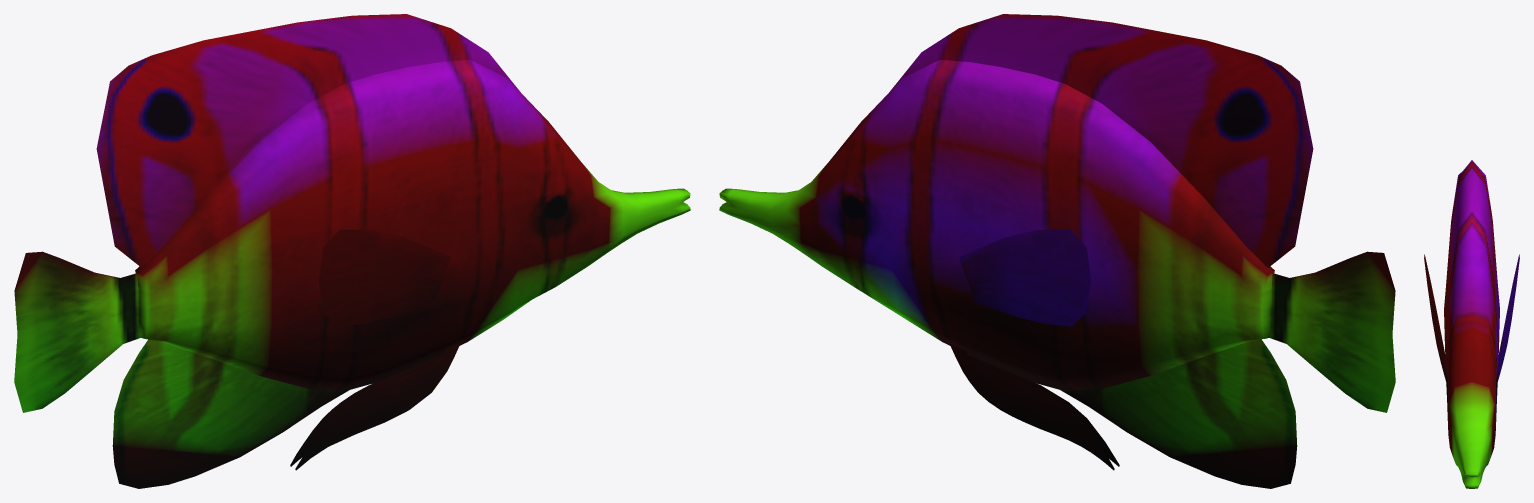
Rendered from copperband_butterflyfish.glb.
3 views of the same model, side by side, from view 1: azimuth 30°, elevation 25°; view 2: azimuth 150°, elevation 25°; view 3: azimuth 270°, elevation 25° (orthographic). The views are drawn at different scales.
Parts seen in each view (by area): view 1: CopperbandButterflyfish; view 2: CopperbandButterflyfish; view 3: CopperbandButterflyfish.
Boxes of the visible parts, x1,y1,x2,y2 form: CopperbandButterflyfish: (14,14,690,488); CopperbandButterflyfish: (719,14,1395,488); CopperbandButterflyfish: (1424,160,1519,488).
Size of the model in its own units: 1 by 0.6389 by 0.1431.
1 material, 1 textured.
